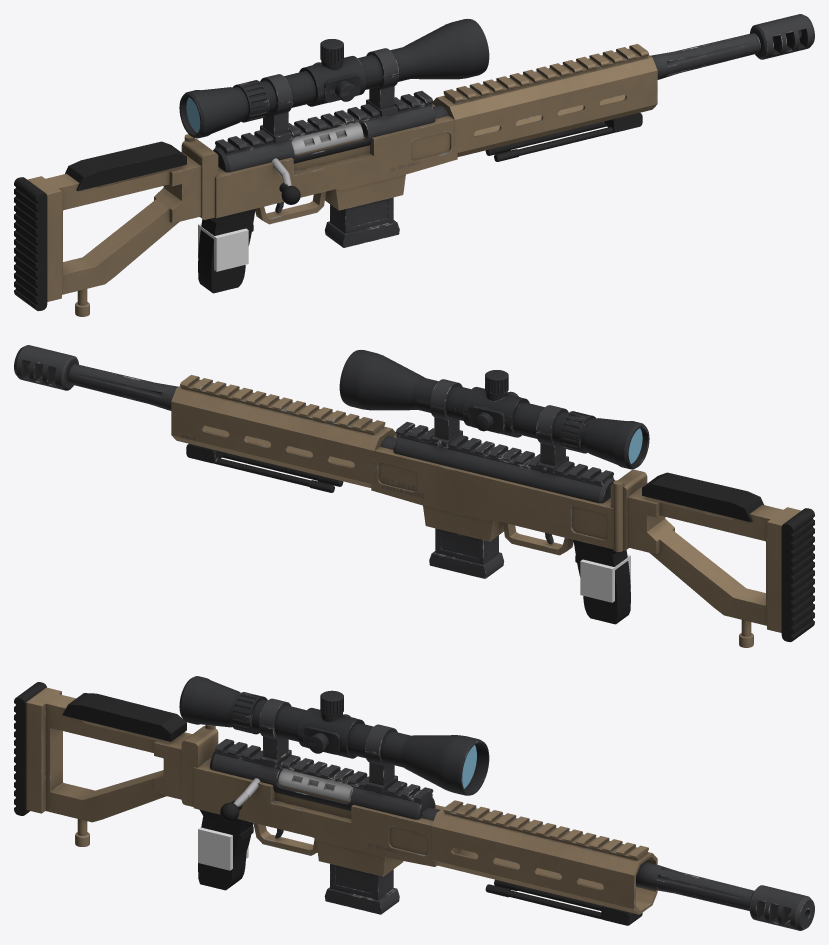
File: Sniper_Realiste.fbx
3 renders of one model, top to bottom at view 1: azimuth 30°, elevation 25°; view 2: azimuth 150°, elevation 25°; view 3: azimuth 330°, elevation 25°, orthographic.
Visible parts, largest first — view 1: Body_Chassis, Body_Lunette, Body_Crosse, Body_Boitier, Body_Polymere, Body_Canon, Body_Talon, Body_Colliers, Magazine_Chargeur, Body_Bipied, ChargingHandle_Culasse, Root; view 2: Body_Chassis, Body_Lunette, Body_Crosse, Body_Boitier, Body_Polymere, Body_Canon, Body_Talon, Body_Colliers, Magazine_Chargeur, Body_Bipied, Root; view 3: Body_Chassis, Body_Lunette, Body_Crosse, Body_Boitier, Body_Polymere, Body_Canon, Body_Colliers, Magazine_Chargeur, Body_Bipied, Body_Talon, ChargingHandle_Culasse, Root.
Part boxes in pixels (bbox=[...]): Body_Chassis: bbox=[181, 44, 657, 224]; Body_Lunette: bbox=[179, 18, 489, 138]; Body_Crosse: bbox=[27, 152, 201, 316]; Body_Boitier: bbox=[213, 91, 448, 172]; Body_Polymere: bbox=[65, 141, 255, 293]; Body_Canon: bbox=[650, 14, 814, 79]; Body_Talon: bbox=[14, 177, 47, 311]; Body_Colliers: bbox=[260, 48, 398, 142]; Magazine_Chargeur: bbox=[324, 197, 399, 247]; Body_Bipied: bbox=[485, 113, 642, 161]; ChargingHandle_Culasse: bbox=[271, 122, 363, 186]; Root: bbox=[198, 223, 248, 271]; Body_Chassis: bbox=[171, 375, 647, 555]; Body_Lunette: bbox=[339, 349, 649, 469]; Body_Crosse: bbox=[627, 483, 801, 647]; Body_Boitier: bbox=[380, 422, 614, 503]; Body_Polymere: bbox=[573, 472, 763, 624]; Body_Canon: bbox=[14, 345, 178, 410]; Body_Talon: bbox=[781, 508, 814, 642]; Body_Colliers: bbox=[430, 379, 568, 473]; Magazine_Chargeur: bbox=[429, 528, 504, 578]; Body_Bipied: bbox=[186, 444, 343, 492]; Root: bbox=[580, 554, 630, 602]; Body_Chassis: bbox=[181, 725, 657, 914]; Body_Lunette: bbox=[179, 676, 489, 795]; Body_Crosse: bbox=[26, 687, 192, 846]; Body_Boitier: bbox=[210, 739, 440, 820]; Body_Polymere: bbox=[62, 693, 253, 890]; Body_Canon: bbox=[636, 862, 814, 930]; Body_Colliers: bbox=[258, 698, 397, 793]; Magazine_Chargeur: bbox=[324, 864, 399, 914]; Body_Bipied: bbox=[485, 879, 642, 925]; Body_Talon: bbox=[14, 682, 46, 815]; ChargingHandle_Culasse: bbox=[233, 769, 352, 806]; Root: bbox=[198, 827, 248, 870].
Bounding box in the file's own units: 4.86 × 1.28 × 0.552.
Materials: 14 (13 with a texture image).
